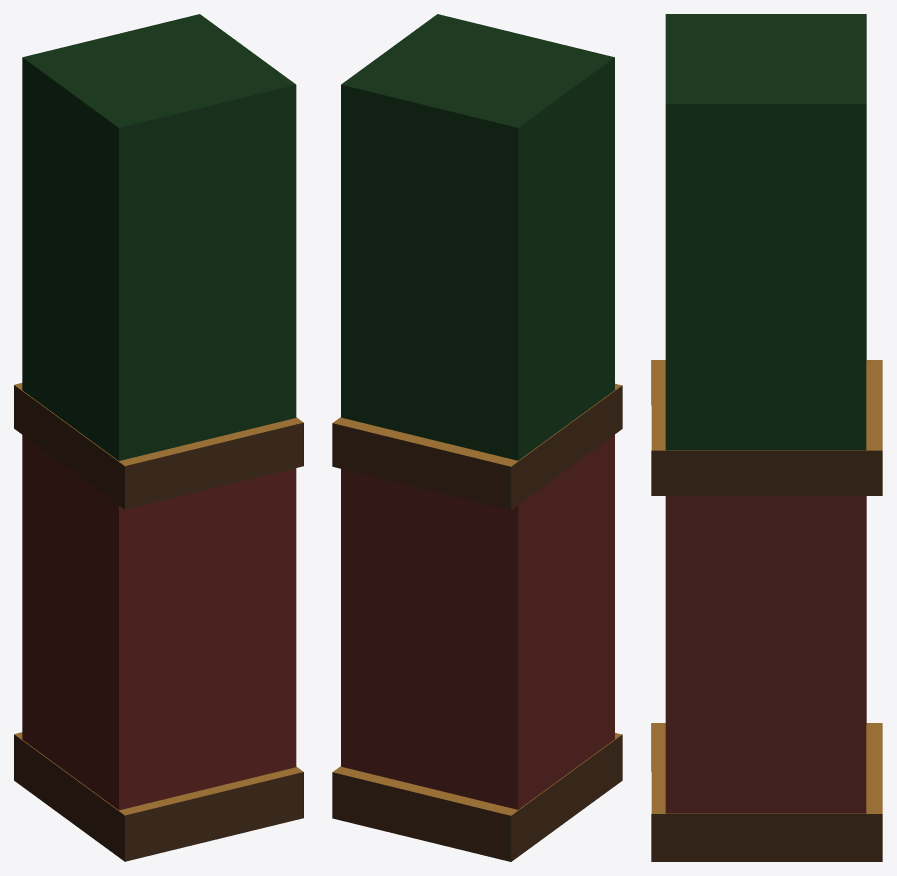
The model's file is stealth_column.fbx.
3 views of the same model, side by side, from view 1: azimuth 30°, elevation 25°; view 2: azimuth 150°, elevation 25°; view 3: azimuth 270°, elevation 25° (orthographic). The views are drawn at different scales.
Visible parts, largest first — view 1: Cube.003; view 2: Cube.003; view 3: Cube.003.
Boxes of the visible parts, left/top/right/bottom form: Cube.003: left=14, top=14, right=303, bottom=861; Cube.003: left=332, top=14, right=622, bottom=861; Cube.003: left=651, top=14, right=882, bottom=861.
Size of the model in its own units: 146 by 566 by 157.
